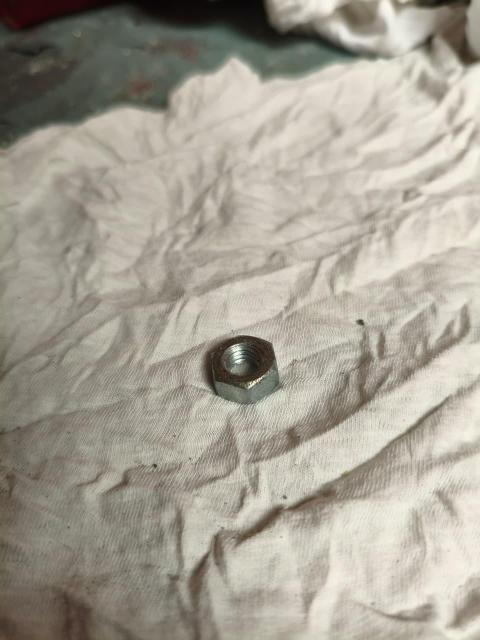Metal: (205, 335, 283, 405)
